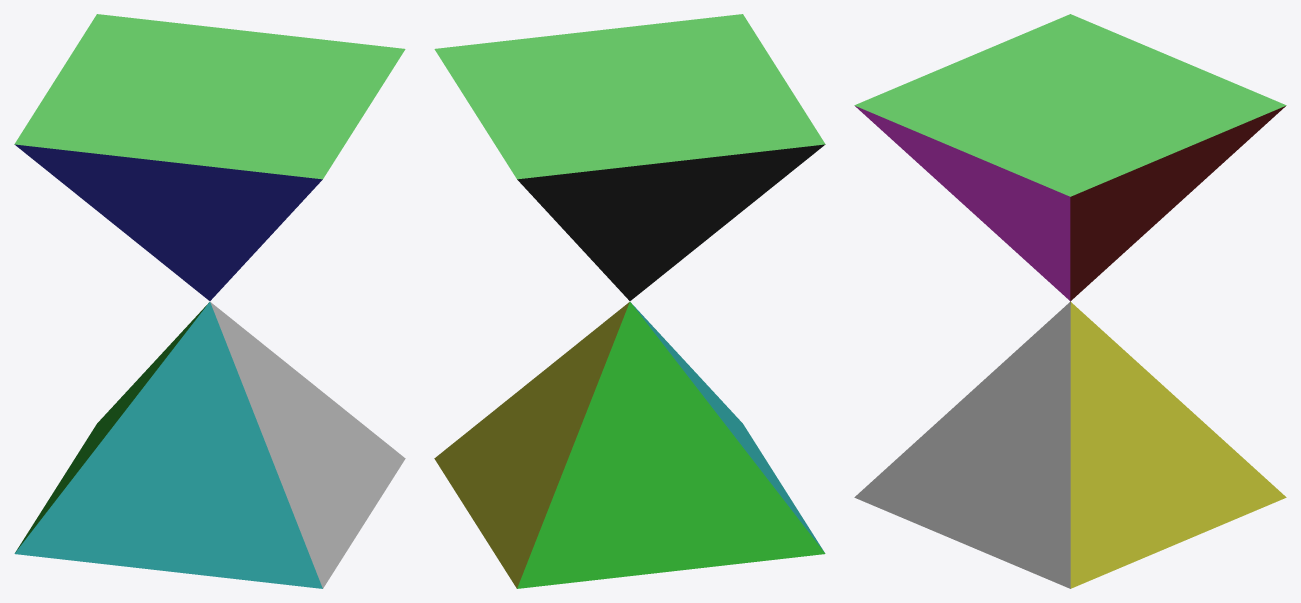
The model's file is zeometry-sculptural-hourglass_v1.glb.
3 renders of one model, left to right at view 1: azimuth 30°, elevation 25°; view 2: azimuth 150°, elevation 25°; view 3: azimuth 270°, elevation 25°, orthographic. The views are drawn at different scales.
Parts seen in each view (by area): view 1: Hourglass; view 2: Hourglass; view 3: Hourglass.
Boxes of the visible parts, <box> form: Hourglass: <box>14,14,405,588</box>; Hourglass: <box>434,14,825,588</box>; Hourglass: <box>854,14,1286,588</box>.
Size of the model in its own units: 0.5 by 0.5 by 0.5.
